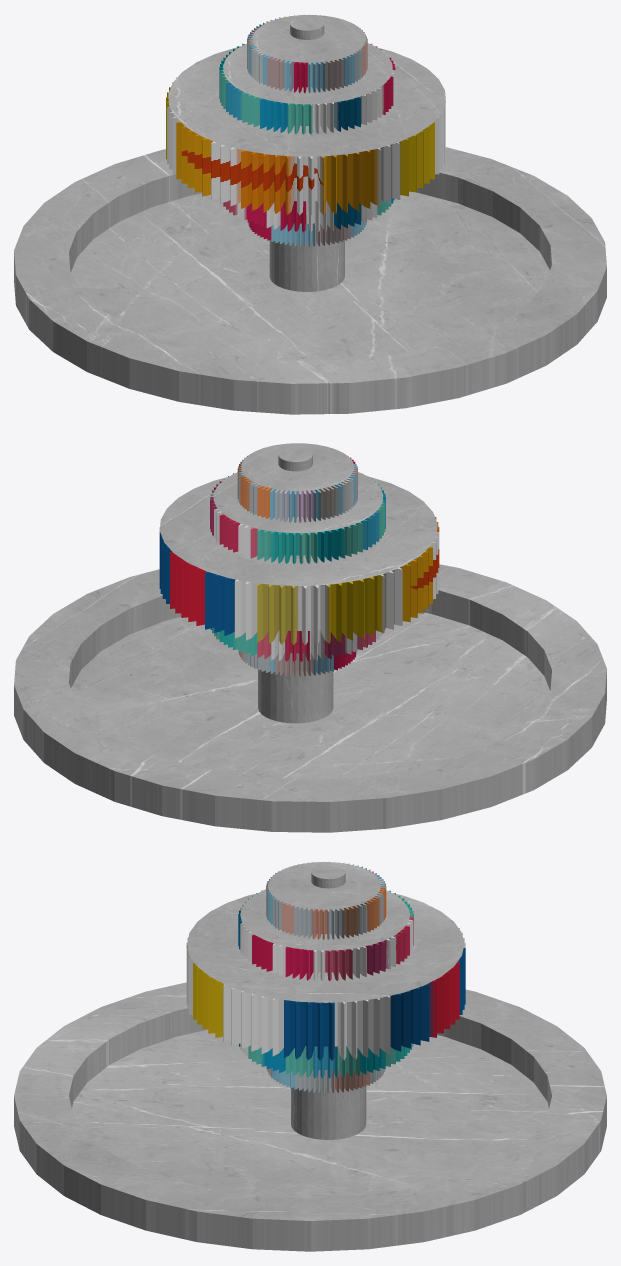
Rendered from fountain.glb.
The picture shows the model from 3 angles, top to bottom: view 1: azimuth 30°, elevation 25°; view 2: azimuth 150°, elevation 25°; view 3: azimuth 270°, elevation 25°; orthographic projection.
Visible parts, largest first — view 1: Circle.001, Gear.001, Cylinder.012, Gear.002, Gear.003, Cylinder.010, Cylinder.011, Cylinder.009, Gear.004, Gear.005, Cylinder.008; view 2: Circle.001, Gear.001, Cylinder.012, Gear.002, Gear.003, Cylinder.011, Cylinder.009, Cylinder.010, Gear.004, Gear.005, Cylinder.008; view 3: Circle.001, Gear.001, Cylinder.012, Gear.002, Gear.003, Cylinder.011, Cylinder.009, Cylinder.010, Gear.004, Gear.005, Cylinder.008.
Part boxes in pixels (<box>): Circle.001: <box>14,147,606,414</box>; Gear.001: <box>166,77,445,215</box>; Cylinder.012: <box>168,47,445,156</box>; Gear.002: <box>219,43,395,134</box>; Gear.003: <box>247,14,367,93</box>; Cylinder.010: <box>223,43,392,104</box>; Cylinder.011: <box>252,15,365,62</box>; Cylinder.009: <box>269,240,344,291</box>; Gear.004: <box>220,198,394,232</box>; Gear.005: <box>248,221,366,246</box>; Cylinder.008: <box>290,16,324,39</box>; Circle.001: <box>14,564,606,832</box>; Gear.001: <box>159,517,439,644</box>; Cylinder.012: <box>160,476,437,585</box>; Gear.002: <box>210,473,385,564</box>; Gear.003: <box>237,454,357,522</box>; Cylinder.011: <box>241,443,354,490</box>; Cylinder.009: <box>258,669,333,723</box>; Cylinder.010: <box>213,472,383,533</box>; Gear.004: <box>210,627,385,661</box>; Gear.005: <box>238,651,357,676</box>; Cylinder.008: <box>278,447,312,471</box>; Circle.001: <box>14,982,606,1251</box>; Gear.001: <box>186,928,465,1060</box>; Cylinder.012: <box>187,893,464,1002</box>; Gear.002: <box>238,890,413,981</box>; Gear.003: <box>266,861,386,939</box>; Cylinder.011: <box>268,862,380,909</box>; Cylinder.009: <box>291,1086,366,1139</box>; Cylinder.010: <box>240,889,409,950</box>; Gear.004: <box>239,1043,413,1078</box>; Gear.005: <box>267,1068,385,1093</box>; Cylinder.008: <box>311,864,345,888</box>.
Bounding box in the file's own units: 11.05 × 5.29 × 11.05.
Materials: 4 (4 with a texture image).
